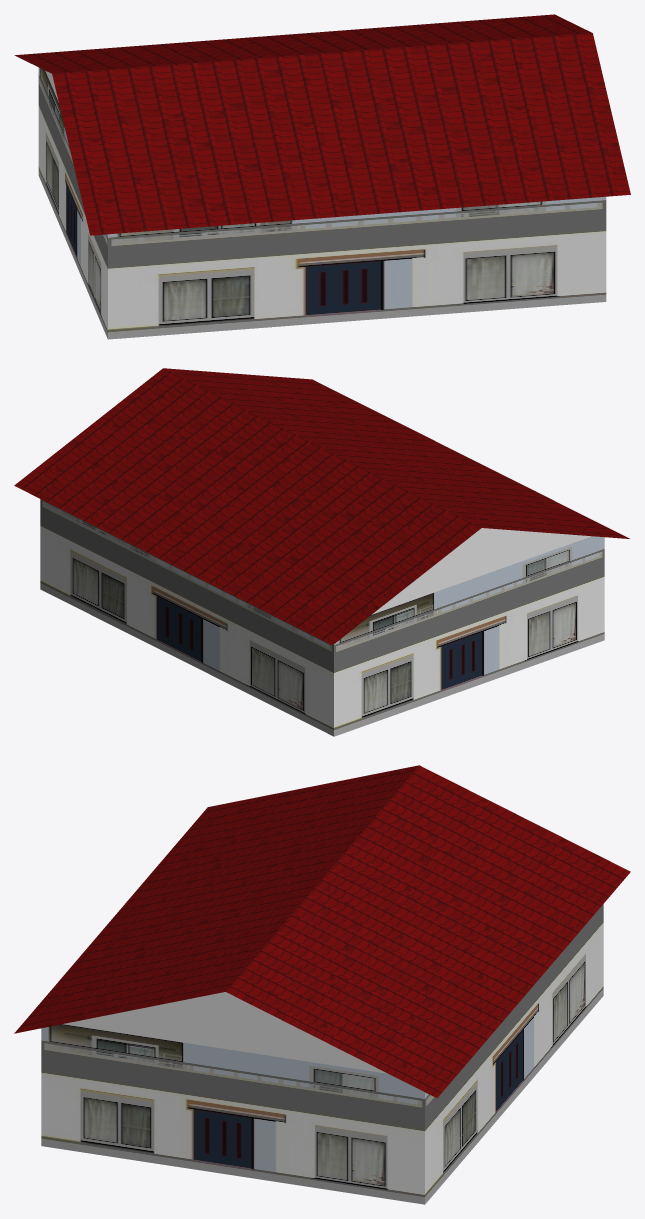
The picture shows the model from 3 angles, top to bottom: view 1: azimuth 30°, elevation 25°; view 2: azimuth 150°, elevation 25°; view 3: azimuth 270°, elevation 25°; orthographic projection. The views are drawn at different scales.
Parts seen in each view (by area): view 1: CityEngineMaterial_17_m, CityEngineMaterial_7_m; view 2: CityEngineMaterial_17_m, CityEngineMaterial_7_m, CityEngineMaterial_3_m; view 3: CityEngineMaterial_17_m, CityEngineMaterial_7_m, CityEngineMaterial_3_m.
Part boxes in pixels (<box>): CityEngineMaterial_17_m: <box>14,14,630,235</box>; CityEngineMaterial_7_m: <box>38,67,606,339</box>; CityEngineMaterial_17_m: <box>14,368,629,645</box>; CityEngineMaterial_7_m: <box>40,499,604,736</box>; CityEngineMaterial_3_m: <box>372,528,591,614</box>; CityEngineMaterial_17_m: <box>14,765,630,1097</box>; CityEngineMaterial_7_m: <box>41,904,603,1204</box>; CityEngineMaterial_3_m: <box>62,992,387,1073</box>.
Bounding box in the file's own units: 30.82 × 9.5 × 27.6.
